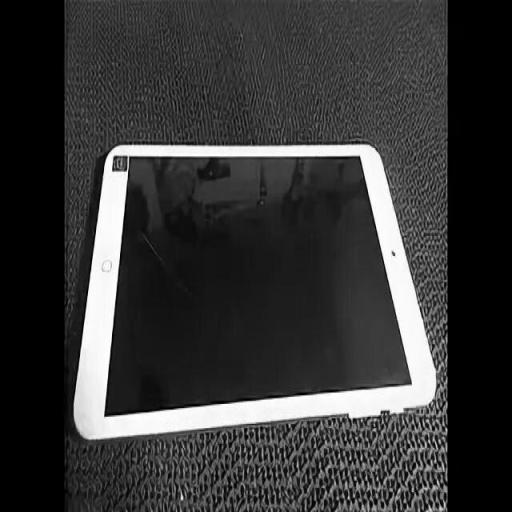phone: (64, 139, 448, 451)
